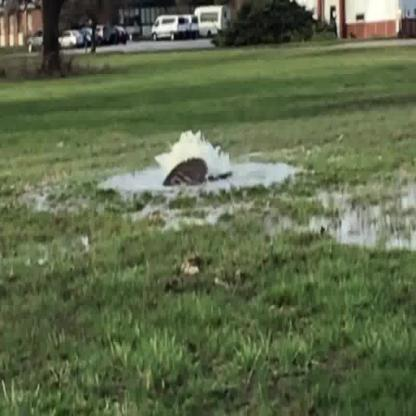drainage overflow-repair-: (149, 128, 236, 191)
